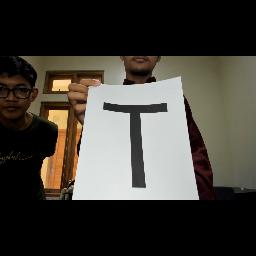t: (97, 96, 179, 192)
